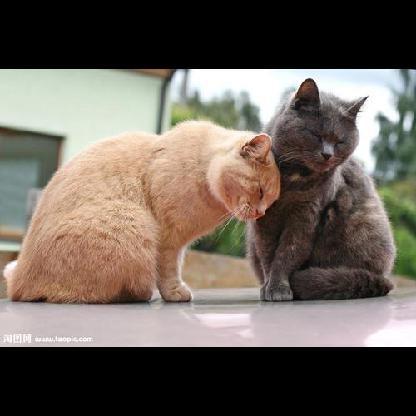猫: (5, 120, 280, 304), (246, 78, 396, 296)
